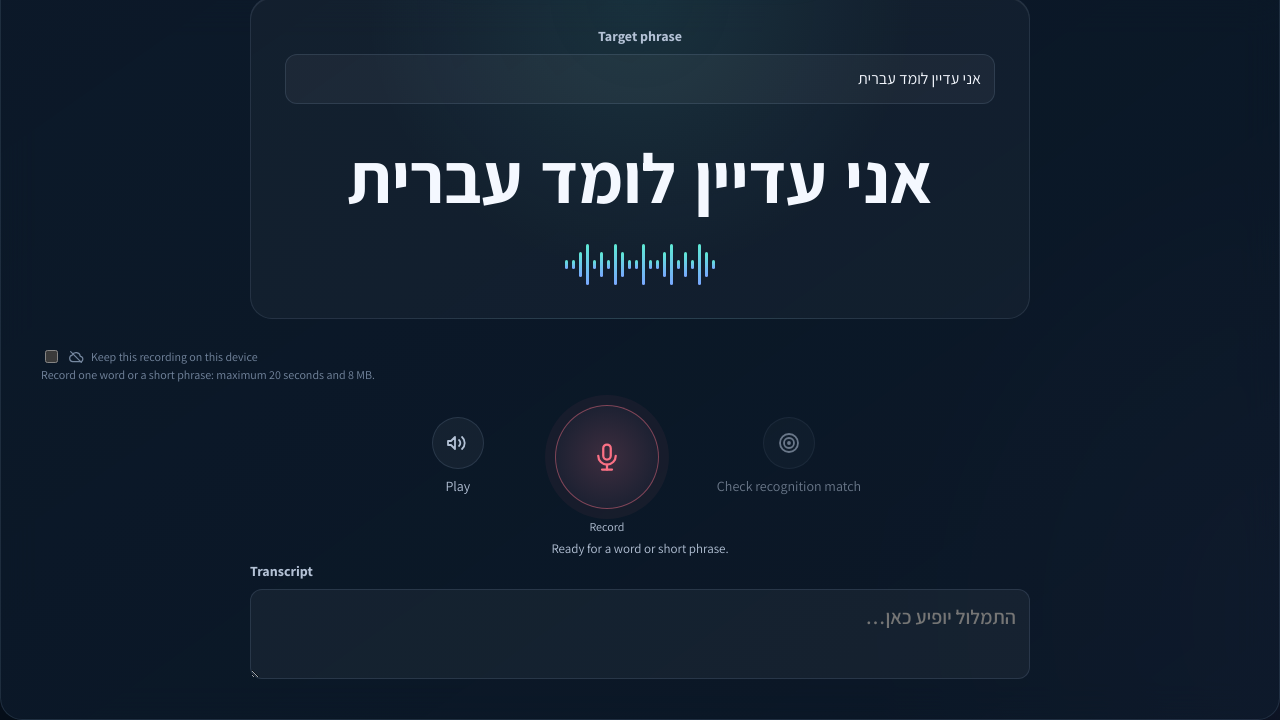
Test: AudioPractice › reports denied microphone permission without hiding browser and manual fallbacks
The image size is (1280, 720).
(page scrolled)
Click the button "Record".
click(607, 457)  # box [555,405,659,509]
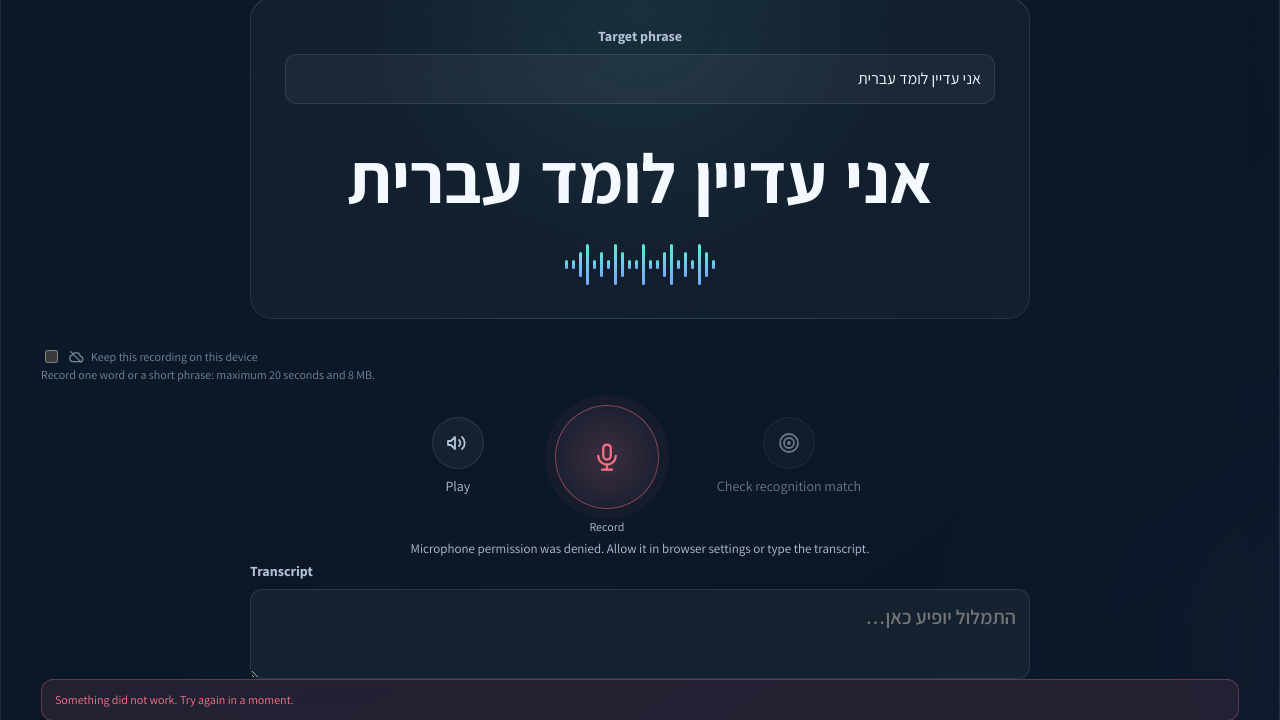
Now the text "Microphone permission was denied" is shown, box [411,540,869,557]
